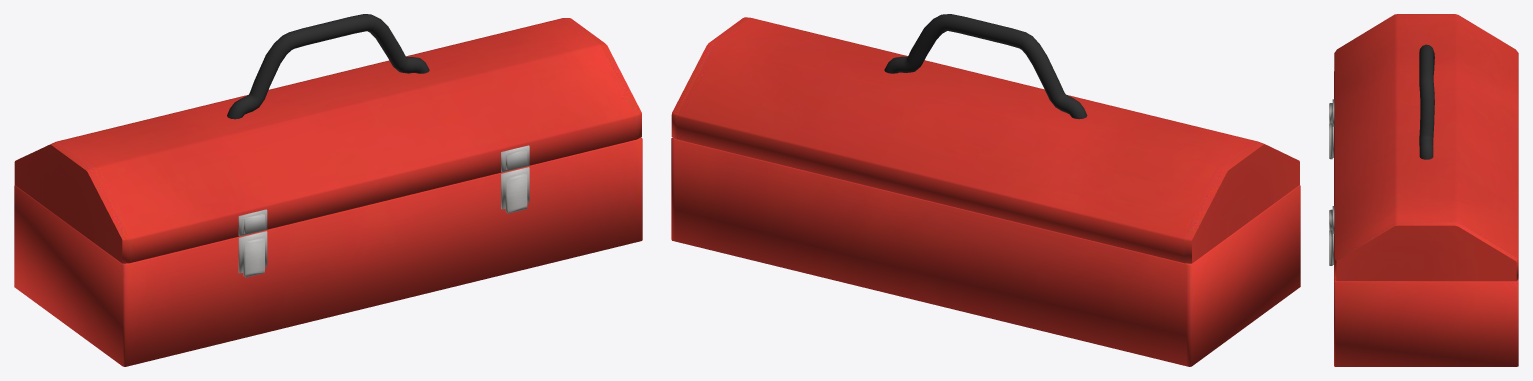
The model's file is Toolbox.fbx.
3 renders of one model, left to right at view 1: azimuth 30°, elevation 25°; view 2: azimuth 150°, elevation 25°; view 3: azimuth 270°, elevation 25°, orthographic. The views are drawn at different scales.
Parts seen in each view (by area): view 1: Lid, Base; view 2: Lid, Base; view 3: Lid, Base.
Boxes of the visible parts, x1,y1,x2,y2 form: Lid: [14, 14, 641, 263]; Base: [14, 137, 642, 366]; Lid: [671, 14, 1299, 263]; Base: [671, 137, 1300, 366]; Lid: [1329, 14, 1518, 281]; Base: [1329, 71, 1518, 366].
Bounding box in the file's own units: 1.58 × 0.7027 × 0.5997.
